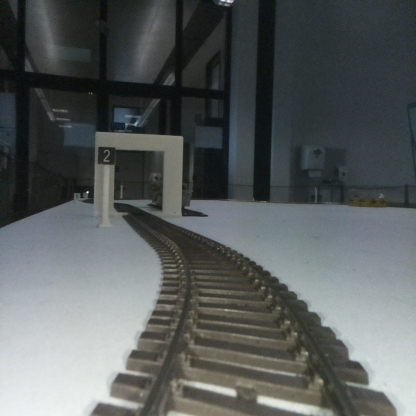black-info-2: (98, 146, 115, 226)
